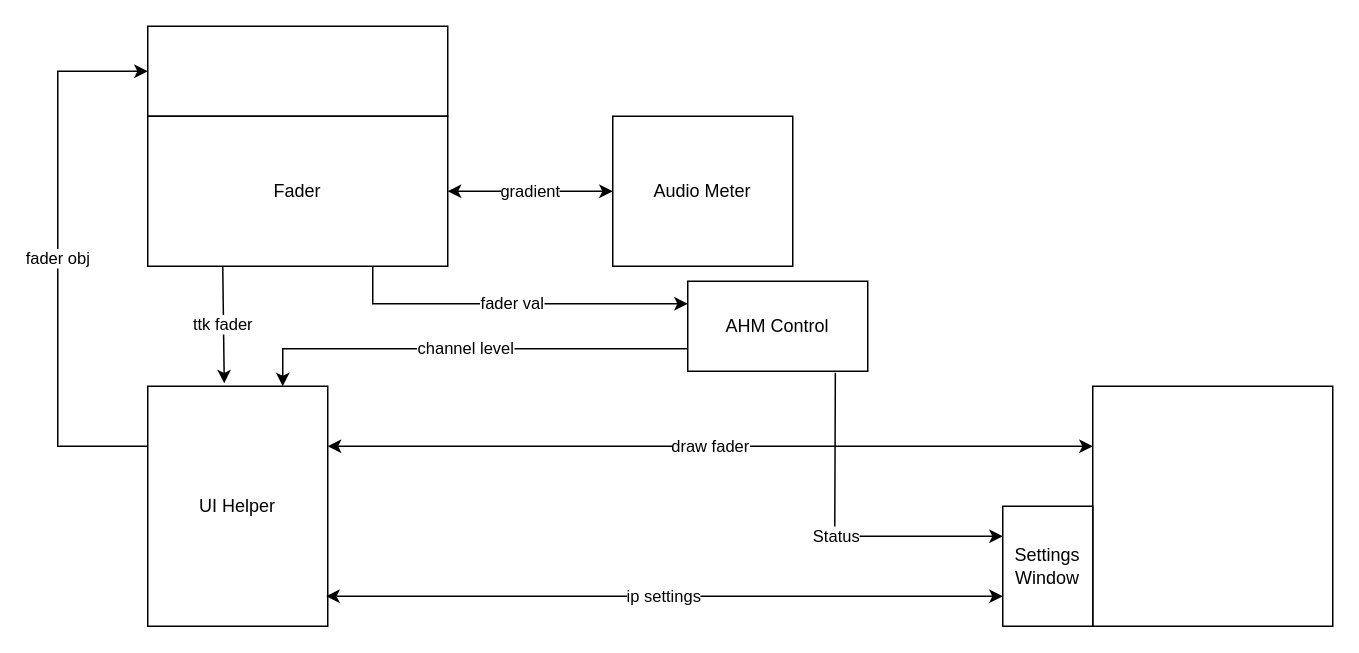
Some shapes in this 1359 by 653 pixel diagram are drawn without their labels. Each missing label, with the centre of its shape:
Fader Manager: the point at 297,70
GUI: the point at 1212,505
